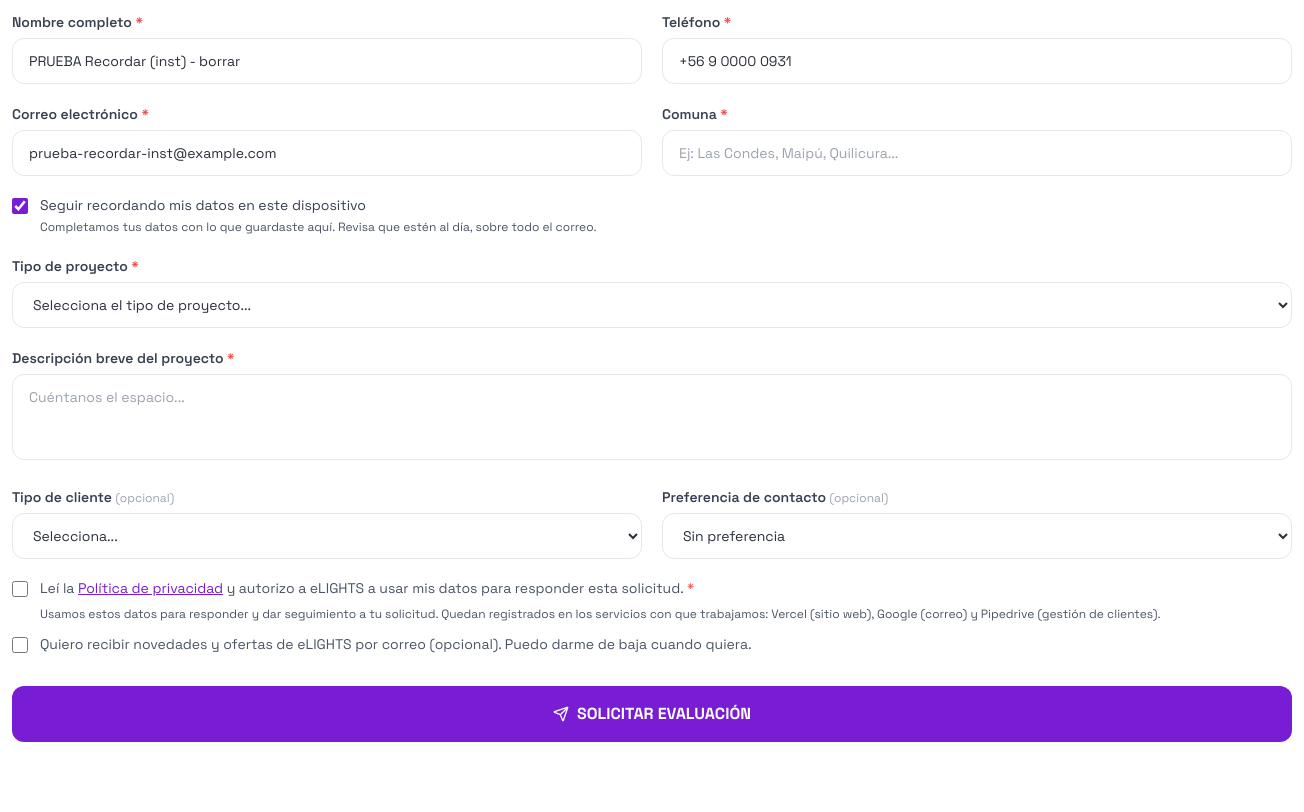
/instalacion: recordar mis datos › cambiar el correo desmarca y borra, con su aviso
The width and height of the screenshot is (1304, 812).
Expected: the field labelled "Nombre completo *" is enabled, 12,38 -> 642,84
Replace the text in the field labelled "Correo electrónico *" with "prueba-otra-persona@example.com" at (327, 153), box 12,130 -> 642,176
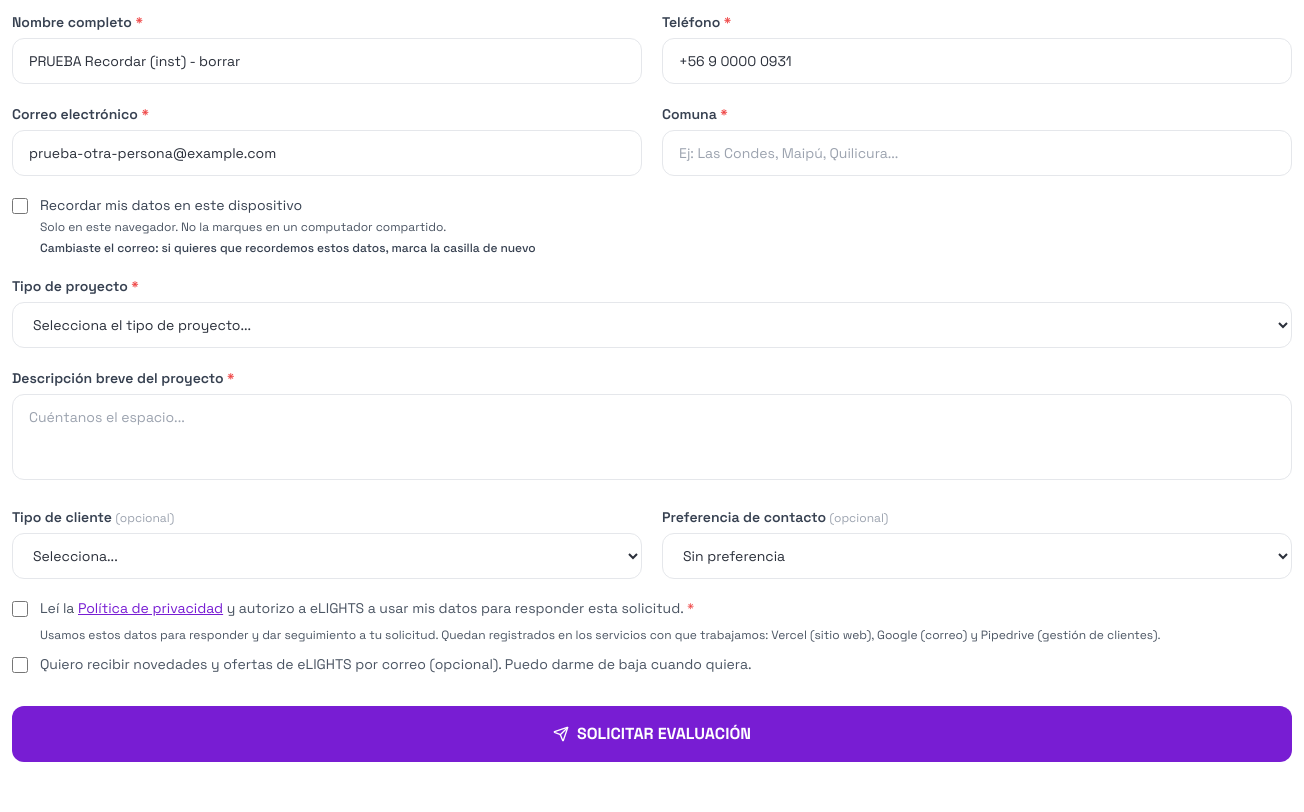
Expected: the field labelled "Nombre completo *" holds "PRUEBA Recordar (inst) - borrar", 12,38 -> 642,84
Expected: the checkbox labelled "Recordar mis datos en este dispositivo" is not checked, 12,198 -> 28,214
